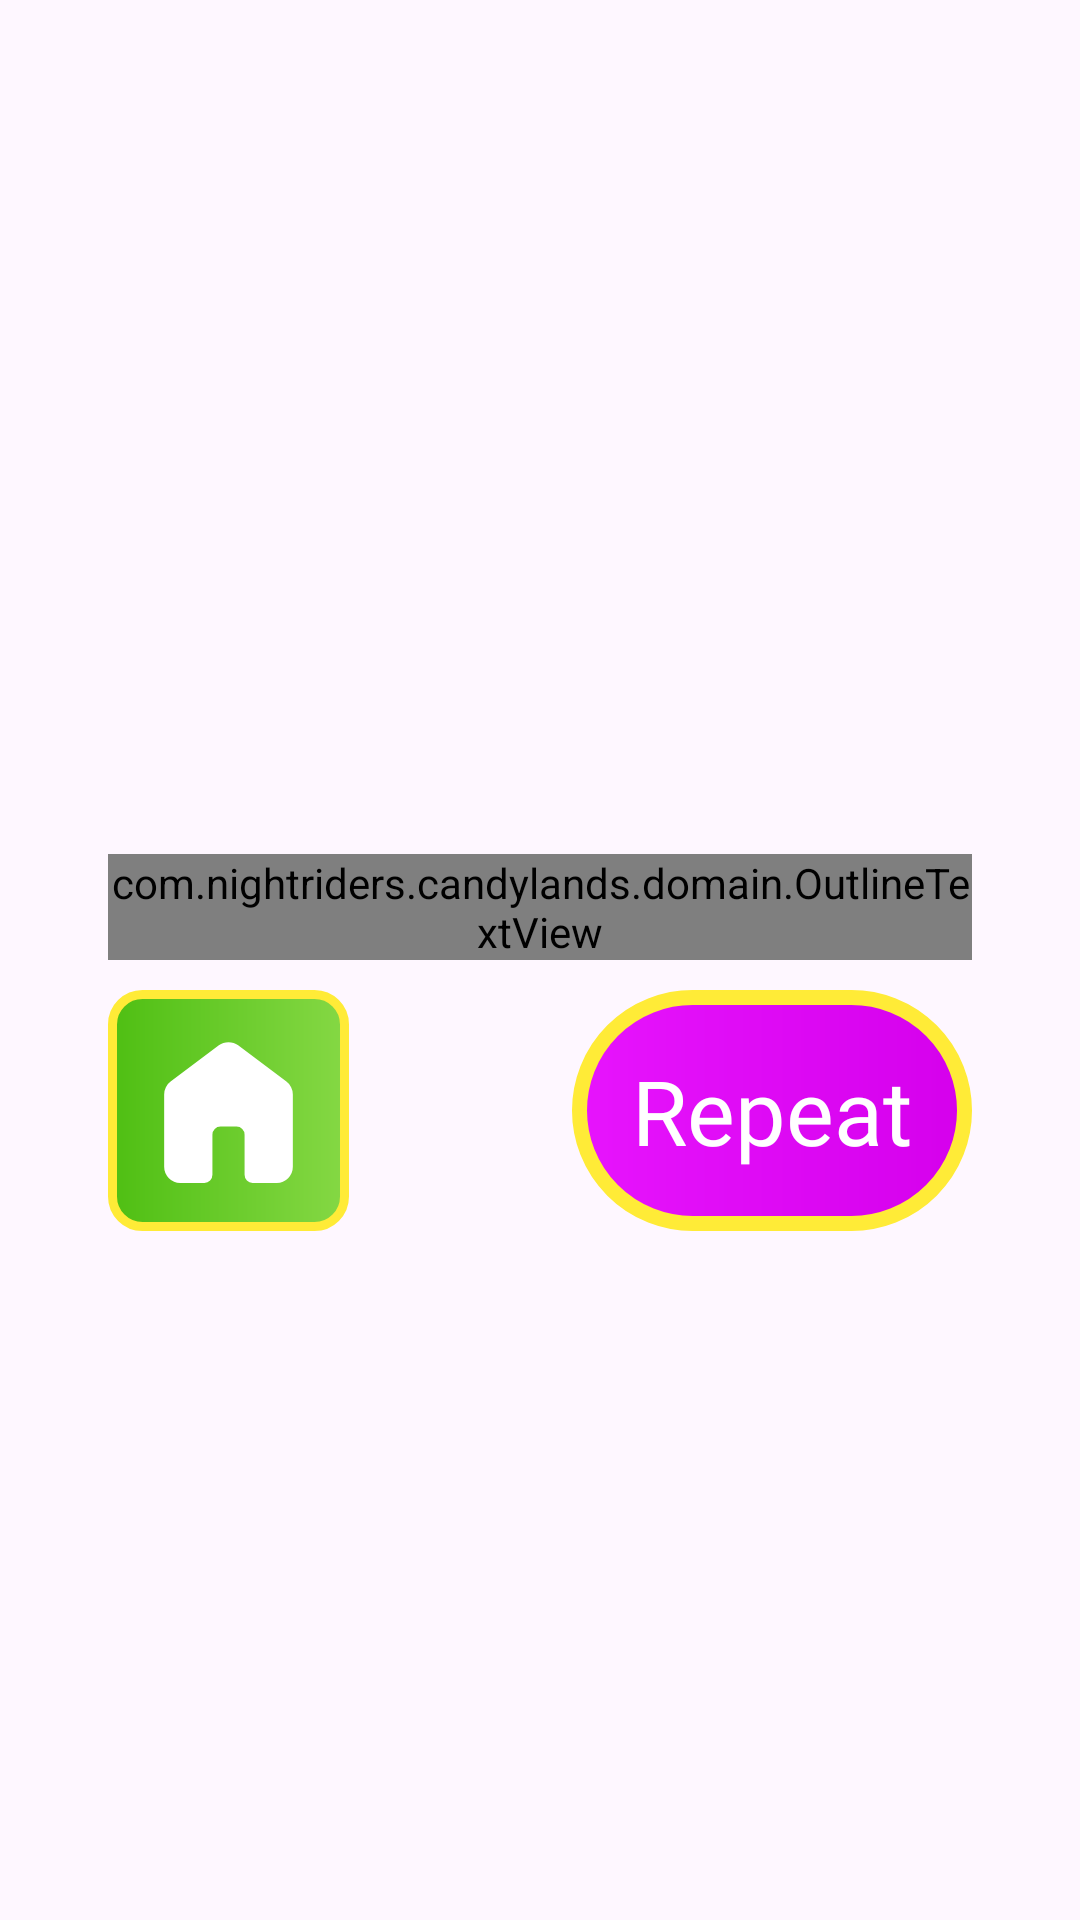

Screen size 1080 × 1920. Icon name, then its box in pixels as [left=x1, top=y1, right=x2, bottom=y2]:
home without: [left=108, top=990, right=349, bottom=1231]
